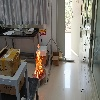fire: (35, 43, 44, 78)
